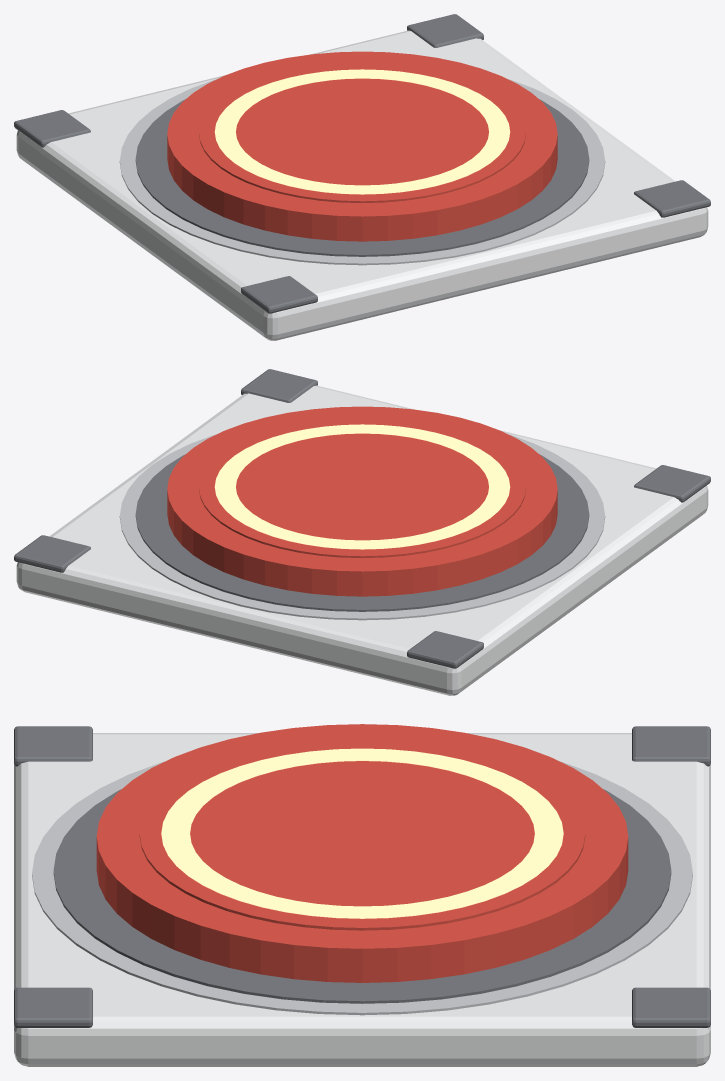
The model's file is button_up.gltf.
3 views of the same model, one above another, from view 1: azimuth 30°, elevation 25°; view 2: azimuth 150°, elevation 25°; view 3: azimuth 270°, elevation 25° (orthographic). The views are drawn at different scales.
Visible parts, largest first — view 1: button_up; view 2: button_up; view 3: button_up.
Part boxes in pixels (x1,y1,x2,y2): button_up: (14,14,710,340); button_up: (14,369,710,695); button_up: (14,724,710,1066).
Size of the model in its own units: 1.94 by 0.279 by 1.94.
